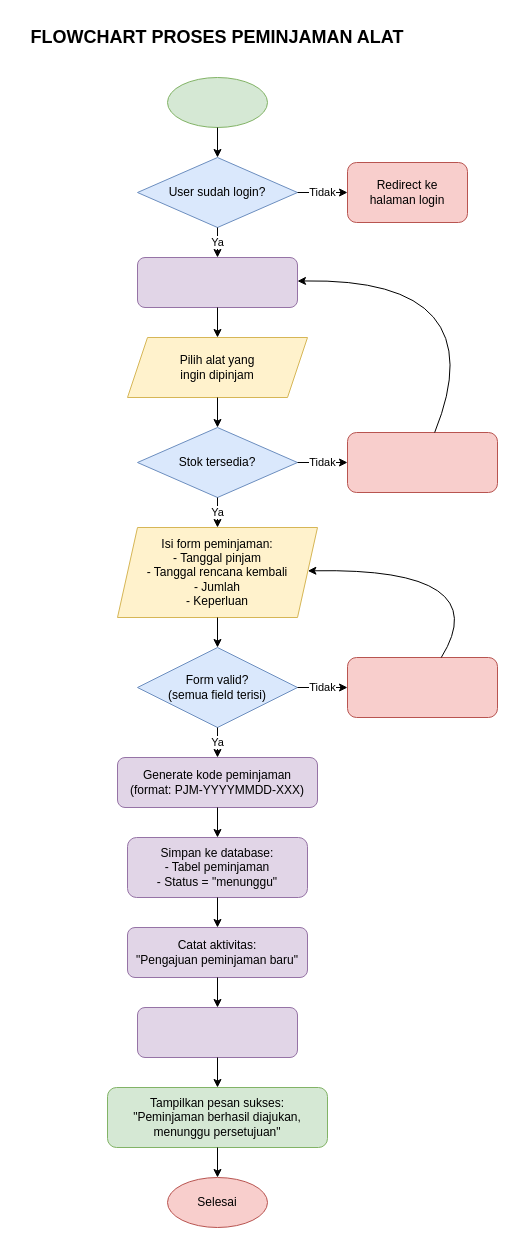
The diagram is 515 pixels wide and 1245 high, and some of its shapes have lost their labels. The centre of each missing label's shape, as x and y in pixels:
Kirim notifikasi ke admin/petugas: [217,1032]
Mulai: [217,102]
Peminjam membuka halaman Katalog Alat: [217,282]
Tampilkan pesan error: "Lengkapi semua data": [422,687]
Tampilkan pesan: "Stok tidak tersedia": [422,462]
